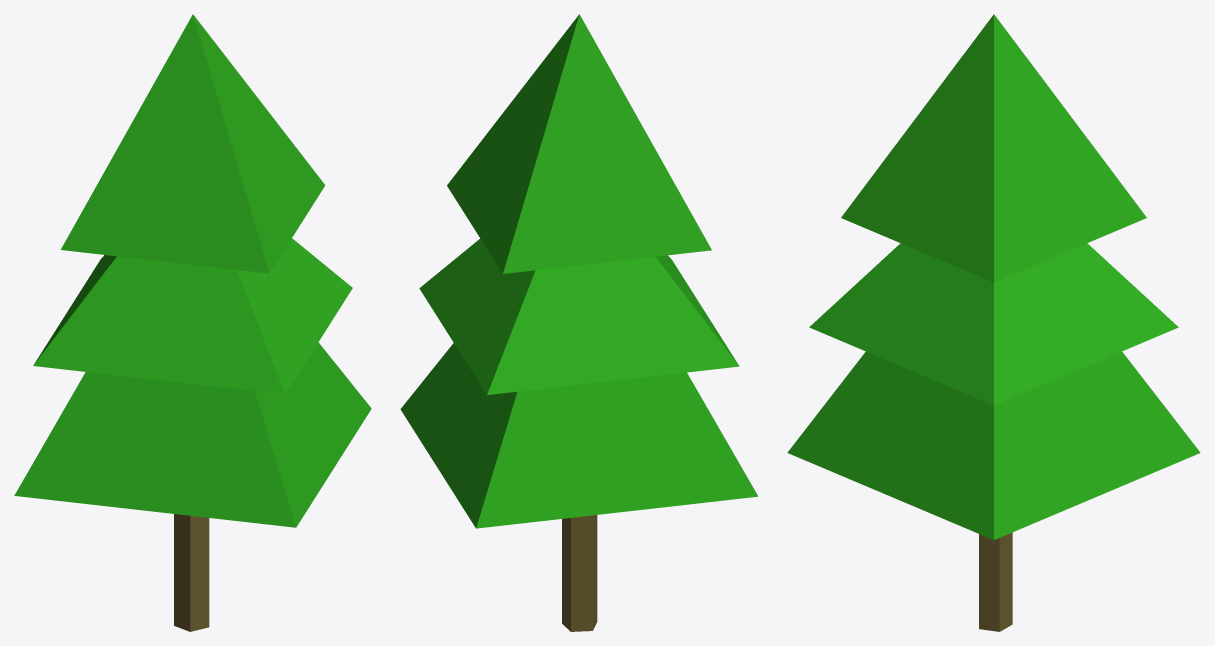
Rendered from TreeShape3_Light.fbx.
3 views of the same model, side by side, from view 1: azimuth 30°, elevation 25°; view 2: azimuth 150°, elevation 25°; view 3: azimuth 270°, elevation 25° (orthographic).
Visible parts, largest first — view 1: TreeShape3_Light; view 2: TreeShape3_Light; view 3: TreeShape3_Light.
Part boxes in pixels (box(x1,y1,x2,y2)): TreeShape3_Light: box(14, 14, 371, 631); TreeShape3_Light: box(400, 14, 758, 631); TreeShape3_Light: box(787, 14, 1200, 631).
Size of the model in its own units: 253 by 413 by 253.
